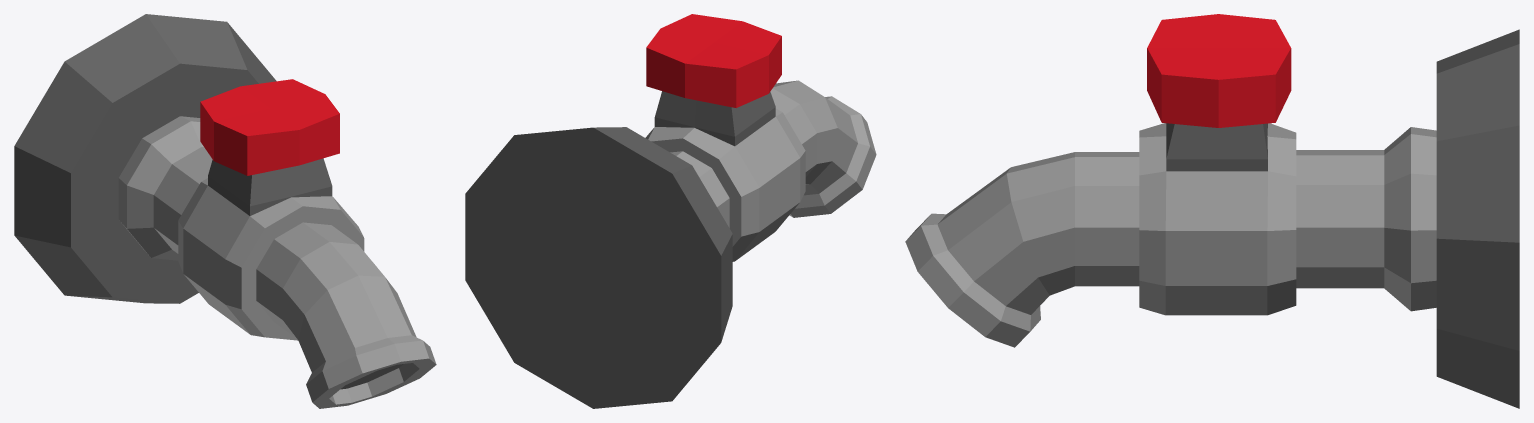
Rendered from TapOutside.fbx.
3 views of the same model, side by side, from view 1: azimuth 30°, elevation 25°; view 2: azimuth 150°, elevation 25°; view 3: azimuth 270°, elevation 25° (orthographic). The views are drawn at different scales.
Parts seen in each view (by area): view 1: Cylinder.1422; view 2: Cylinder.1422; view 3: Cylinder.1422.
Boxes of the visible parts, x1,y1,x2,y2 form: Cylinder.1422: [14, 14, 436, 408]; Cylinder.1422: [465, 14, 876, 408]; Cylinder.1422: [905, 14, 1519, 408].
Bounding box in the file's own units: 27.2 × 28.6 × 45.44.
